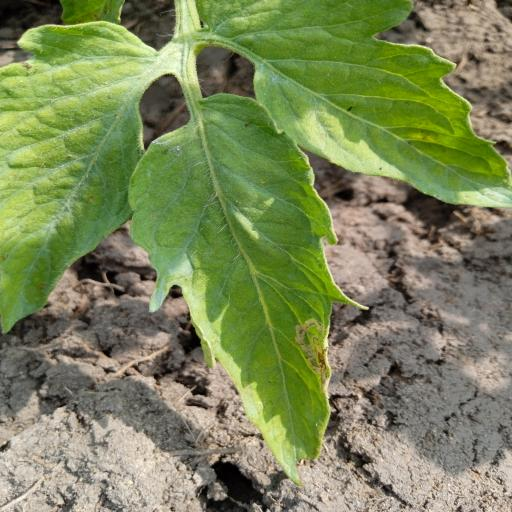Tomato_Mildiou: (119, 89, 367, 486)
